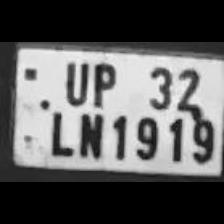1: (106, 110, 130, 160), (162, 112, 186, 162)
2: (172, 63, 204, 109)
3: (142, 62, 174, 110)
9: (186, 107, 216, 163), (130, 111, 160, 159)
L: (44, 106, 74, 156)
N: (73, 108, 105, 158)
P: (87, 58, 119, 106)
U: (58, 57, 90, 105)
